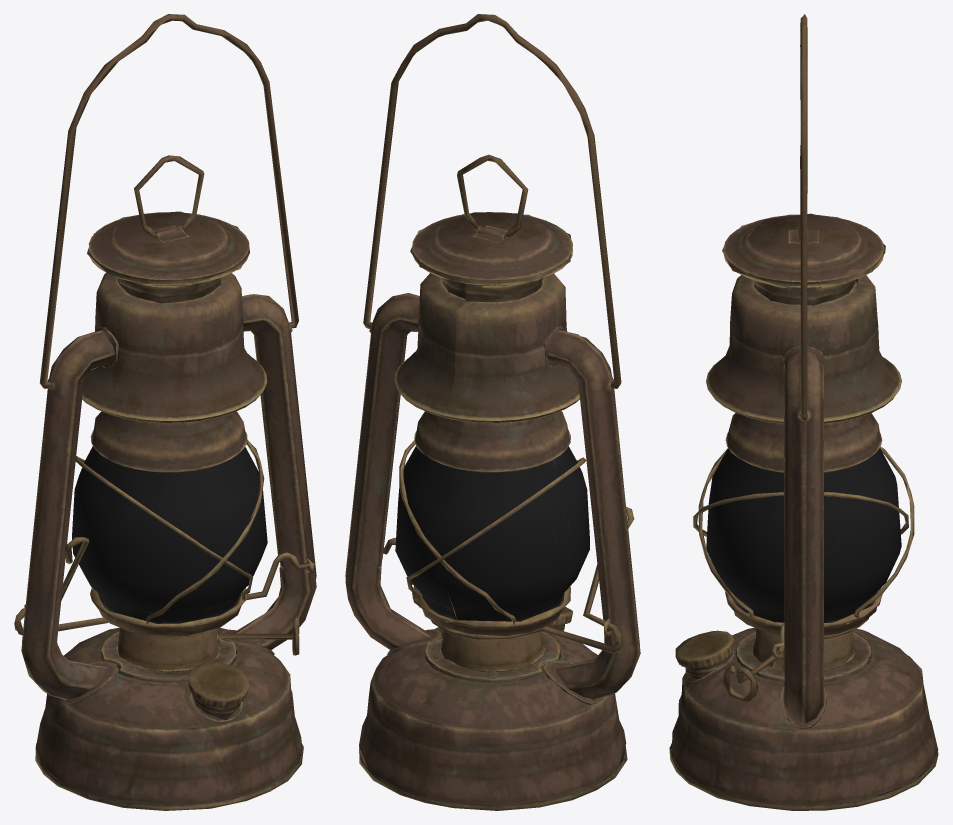
Rendered from lantern.glb.
The picture shows the model from 3 angles, left to right: view 1: azimuth 30°, elevation 25°; view 2: azimuth 150°, elevation 25°; view 3: azimuth 270°, elevation 25°; orthographic projection.
Visible parts, largest first — view 1: Lantern; view 2: Lantern; view 3: Lantern.
Boxes of the visible parts, x1=… form: Lantern: x1=14, y1=14, x2=316, y2=810; Lantern: x1=345, y1=14, x2=640, y2=810; Lantern: x1=669, y1=14, x2=938, y2=810.
Bounding box in the file's own units: 0.1208 × 0.29 × 0.0958.
2 materials, 2 textured.
